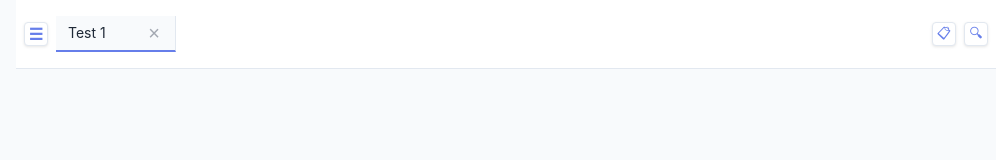
it: TabsBar › closes dropdown when last tab is closed
The image size is (996, 160).
Click the button with class "tabs-dropdown-btn": (944, 34) [932,22,956,46]
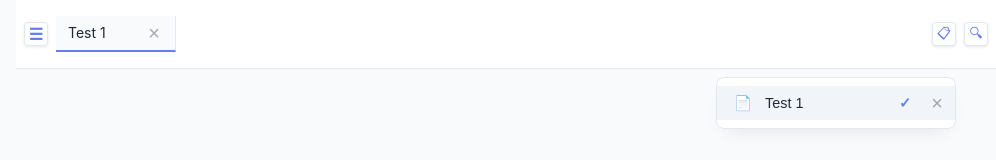
Now the menu with class "tabs-dropdown" is shown, box [716,77,956,129]
